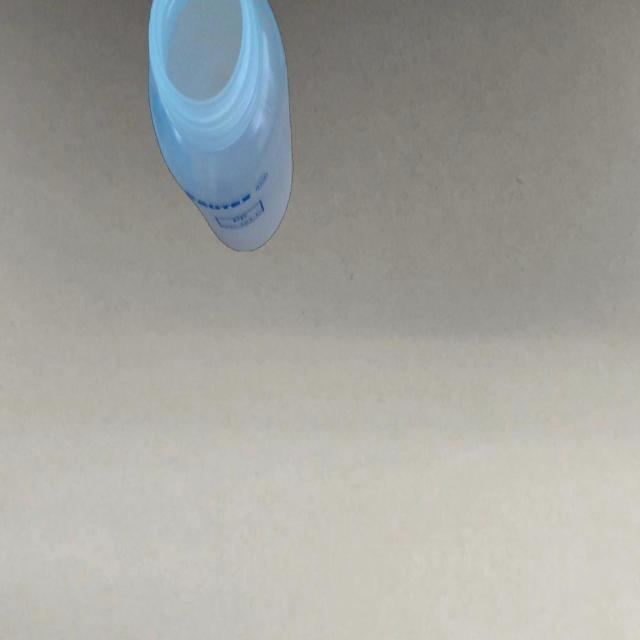bottle: (146, 0, 294, 256)
